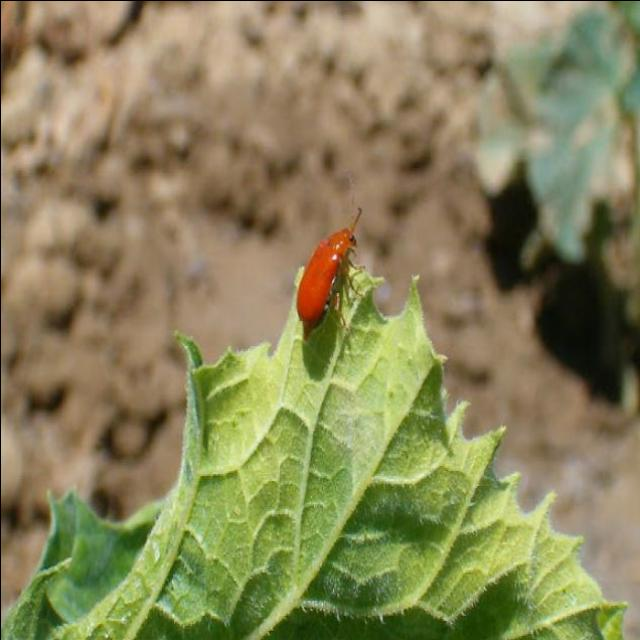Pumpkin Beetle: (293, 196, 368, 341)
